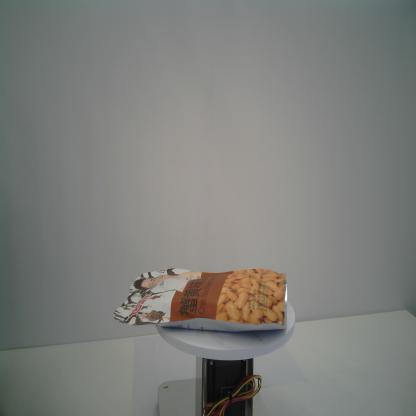Dried Fruit: (113, 268, 288, 332)
